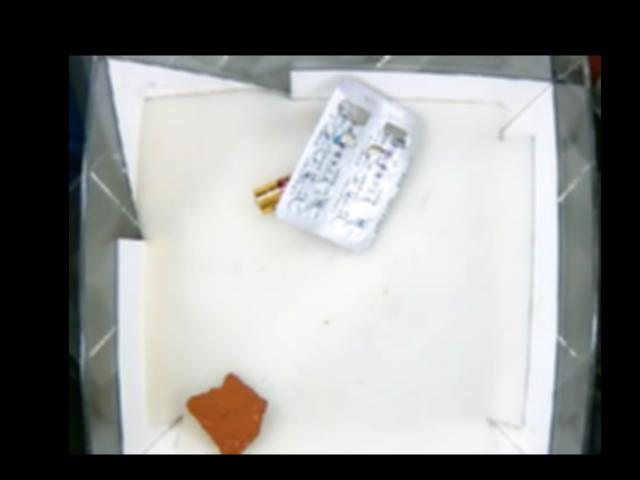Battery: (252, 174, 295, 216)
Brisk: (185, 370, 267, 453)
Medicine: (275, 78, 420, 248)
